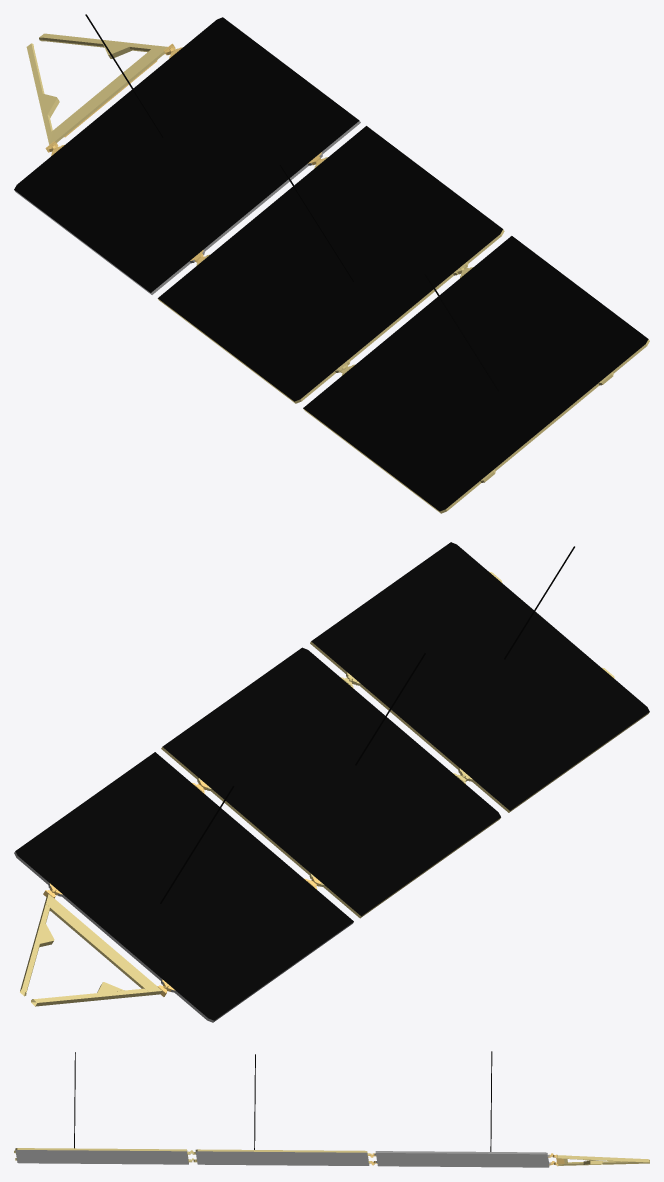
Rendered from right-wing-double.fbx.
The picture shows the model from 3 angles, top to bottom: view 1: azimuth 30°, elevation 25°; view 2: azimuth 150°, elevation 25°; view 3: azimuth 270°, elevation 25°; orthographic projection. The views are drawn at different scales.
Visible parts, largest first — view 1: entire_spacecraft; view 2: entire_spacecraft; view 3: entire_spacecraft.
Part boxes in pixels (<box>): entire_spacecraft: <box>14,14,649,513</box>; entire_spacecraft: <box>14,542,649,1022</box>; entire_spacecraft: <box>14,1051,649,1167</box>.
Bounding box in the file's own units: 29.86 × 26.57 × 124.
